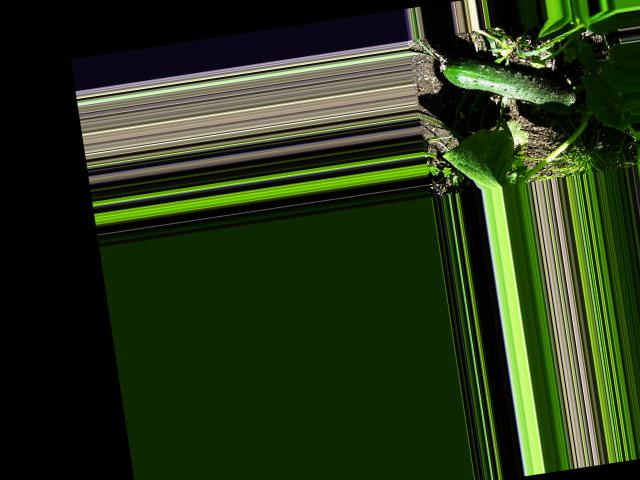cucumber: (439, 41, 581, 132)
